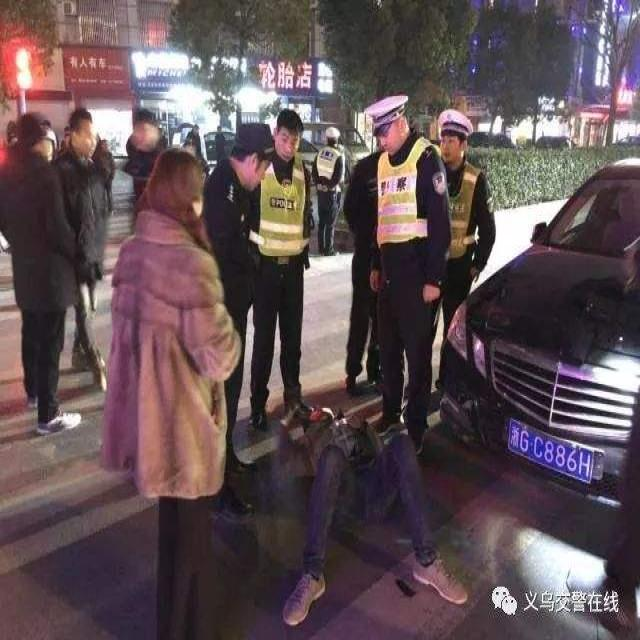10-: (0, 81, 499, 624)
down: (265, 387, 471, 622)
